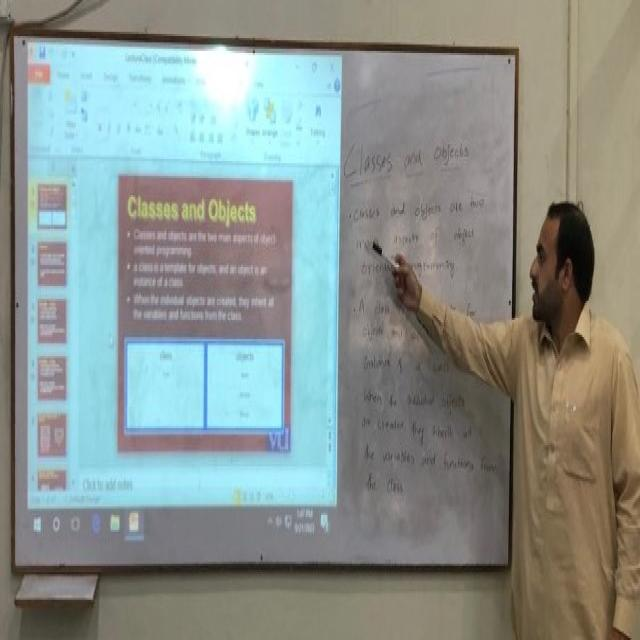Instructor: (511, 165, 627, 638)
Slide: (23, 37, 343, 557)
White-board: (9, 32, 520, 566)
